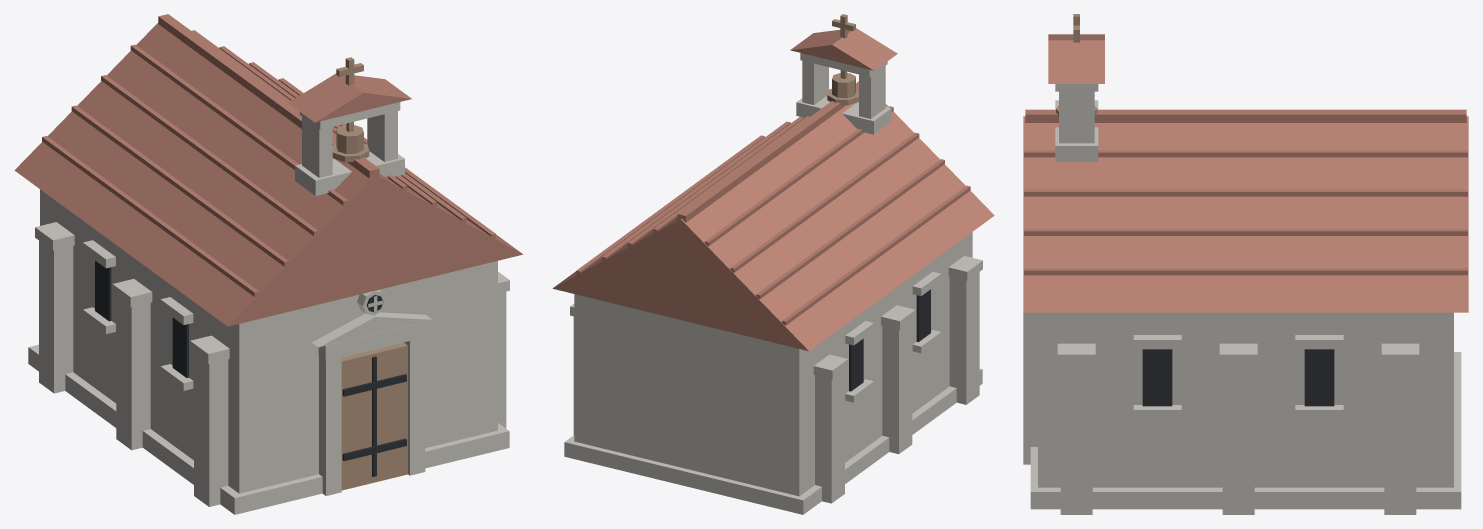
Rendered from chapel.glb.
The picture shows the model from 3 angles, left to right: view 1: azimuth 30°, elevation 25°; view 2: azimuth 150°, elevation 25°; view 3: azimuth 270°, elevation 25°; orthographic projection. The views are drawn at different scales.
Visible parts, largest first — view 1: chapel_stone, chapel_roof, chapel_wood, chapel_dark; view 2: chapel_stone, chapel_roof, chapel_dark, chapel_wood; view 3: chapel_roof, chapel_stone, chapel_dark.
Part boxes in pixels (bbox=[...]): chapel_stone: bbox=[28, 102, 509, 514]; chapel_roof: bbox=[14, 14, 523, 326]; chapel_wood: bbox=[332, 57, 407, 490]; chapel_dark: bbox=[95, 260, 406, 476]; chapel_stone: bbox=[564, 53, 982, 514]; chapel_roof: bbox=[552, 28, 994, 351]; chapel_dark: bbox=[849, 289, 930, 391]; chapel_wood: bbox=[827, 14, 858, 105]; chapel_roof: bbox=[1023, 34, 1468, 312]; chapel_stone: bbox=[1023, 84, 1461, 514]; chapel_dark: bbox=[1142, 349, 1334, 406].
Size of the model in its own units: 1.63 by 2.1 by 2.
